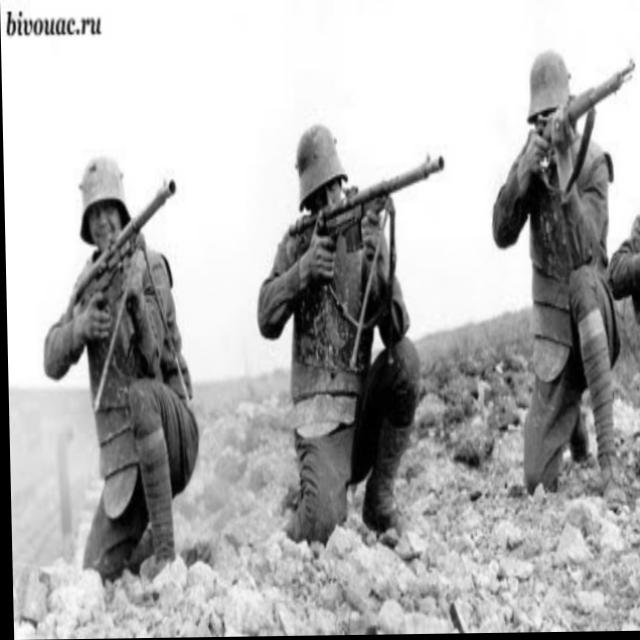other: (254, 132, 413, 540), (50, 162, 186, 569), (515, 46, 617, 487)
